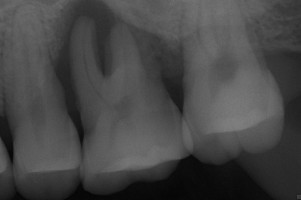Dental Caries: (52, 0, 183, 110)
